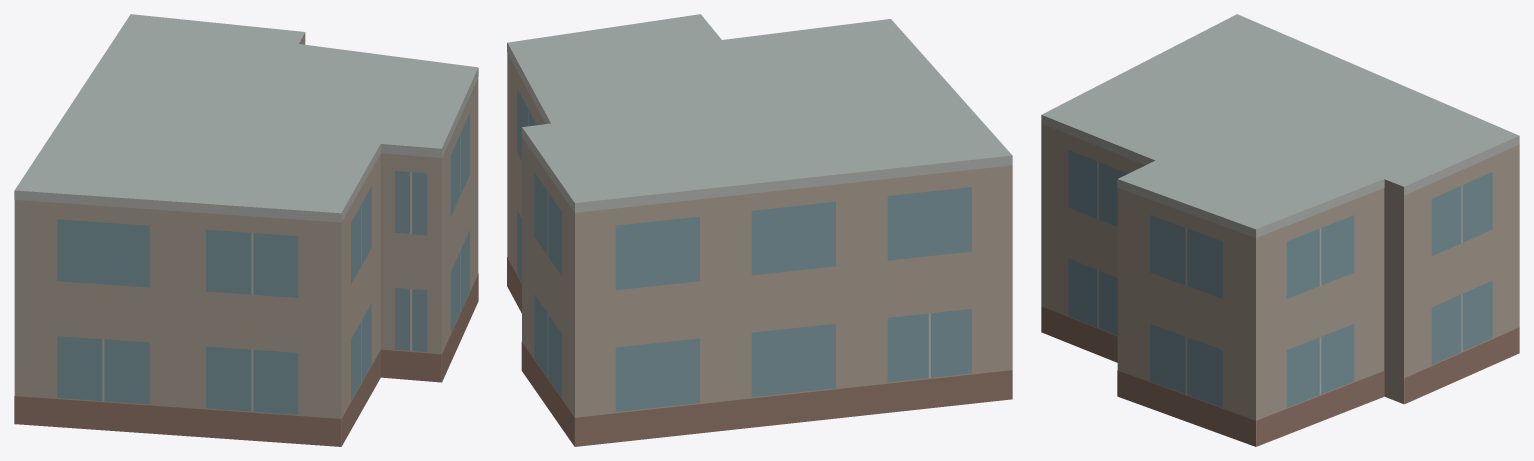
The model's file is survey-upis-32756925.glb.
3 views of the same model, side by side, from view 1: azimuth 30°, elevation 25°; view 2: azimuth 150°, elevation 25°; view 3: azimuth 270°, elevation 25° (orthographic). The views are drawn at different scales.
Visible parts, largest first — view 1: survey-upis-32756925.tmp; view 2: survey-upis-32756925.tmp; view 3: survey-upis-32756925.tmp.
Boxes of the visible parts, x1=… form: survey-upis-32756925.tmp: x1=14, y1=14, x2=478, y2=446; survey-upis-32756925.tmp: x1=507, y1=14, x2=1012, y2=446; survey-upis-32756925.tmp: x1=1041, y1=14, x2=1519, y2=446.
Bounding box in the file's own units: 12.97 × 6.1 × 12.17.
